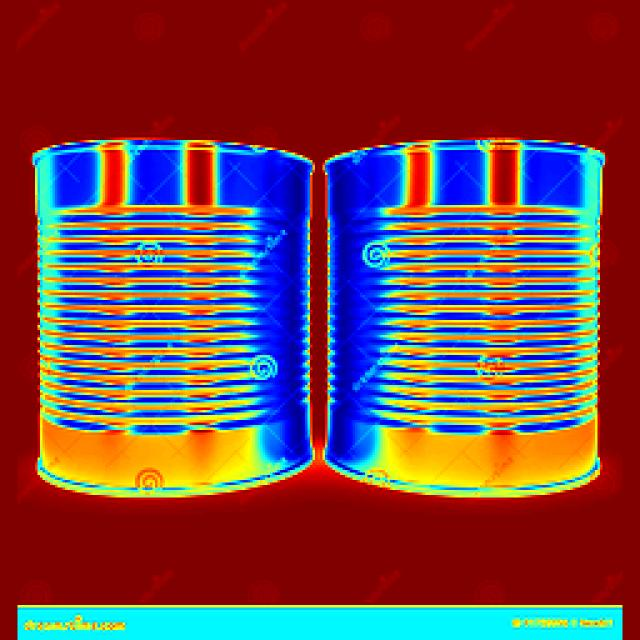Aluminium Food Cans: (318, 146, 612, 497), (29, 130, 314, 469)
